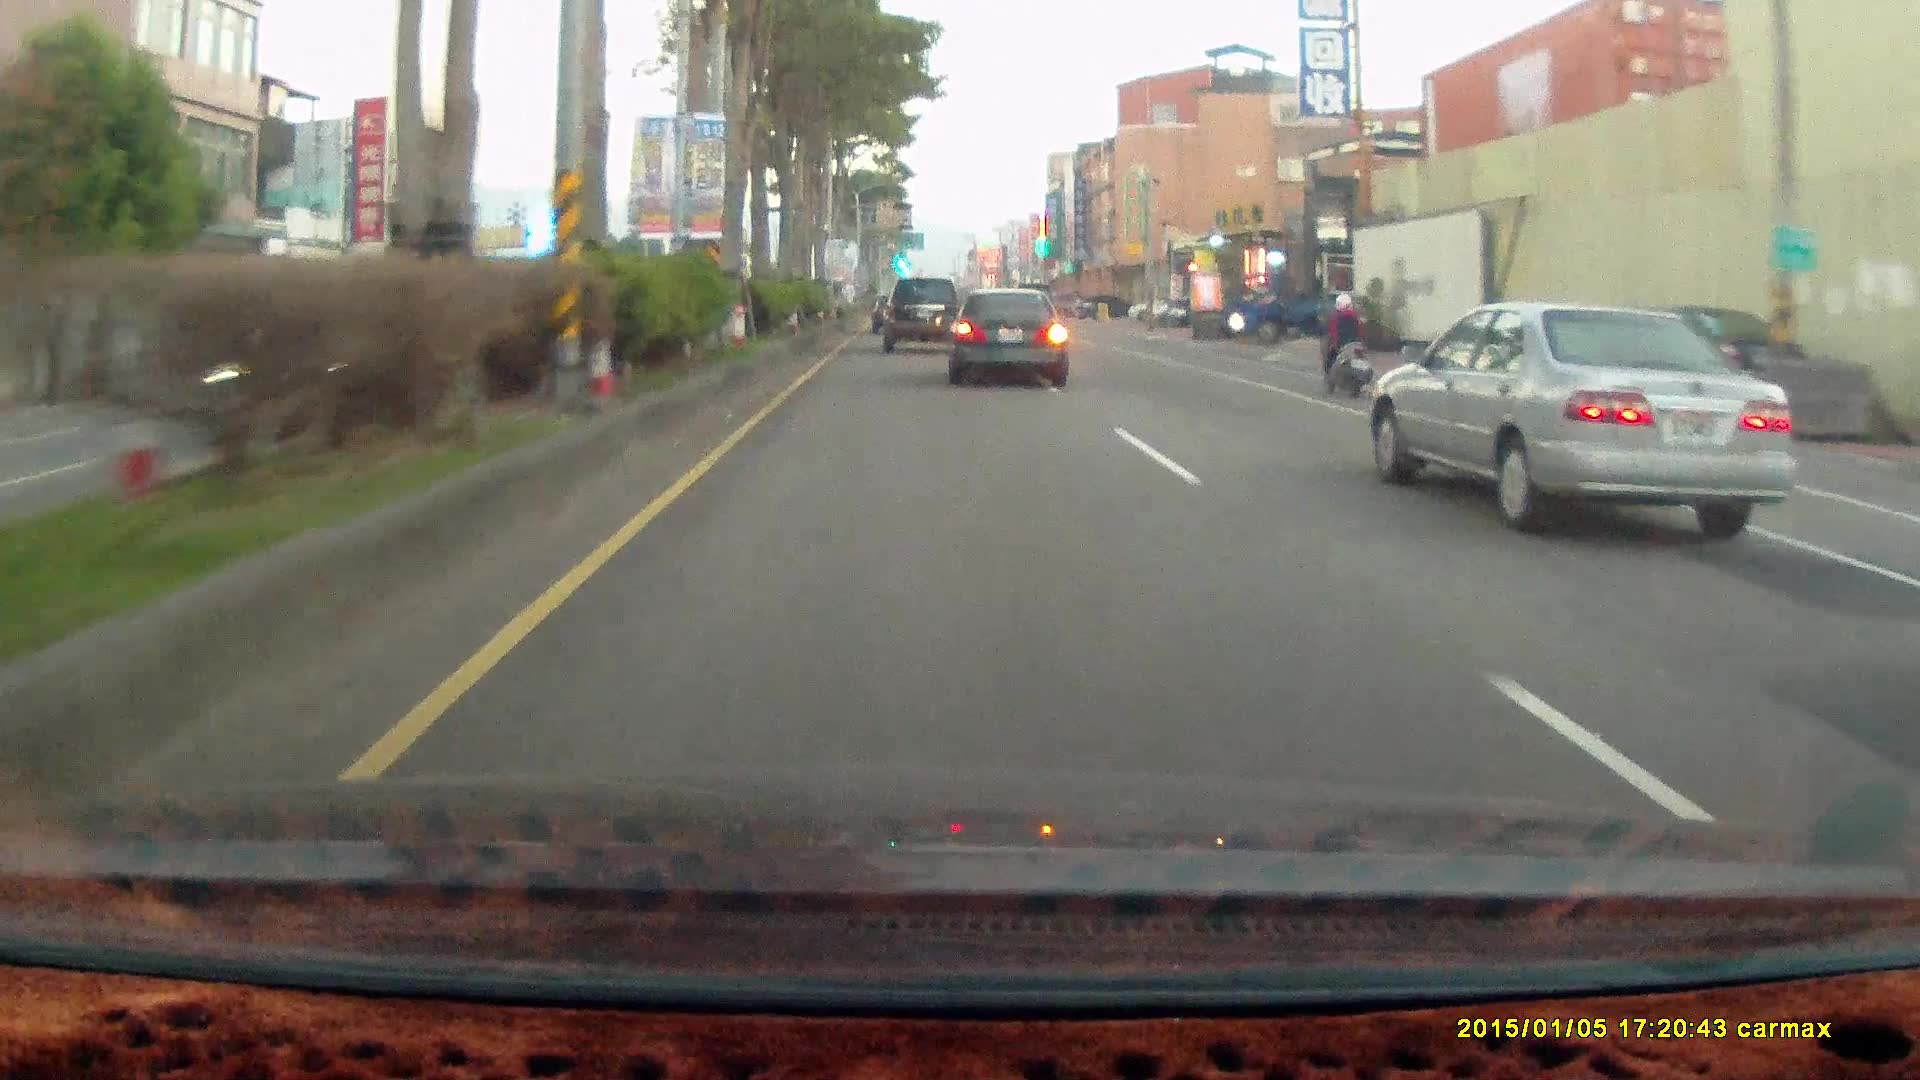rider: (1310, 282, 1381, 403), (1316, 289, 1377, 402)
vehicle: (1367, 299, 1792, 540), (1376, 300, 1802, 533), (945, 288, 1069, 389), (949, 292, 1075, 391), (1227, 266, 1364, 342), (1227, 272, 1368, 344), (878, 282, 960, 353), (883, 278, 961, 351), (1075, 296, 1133, 320), (1123, 296, 1180, 321)
